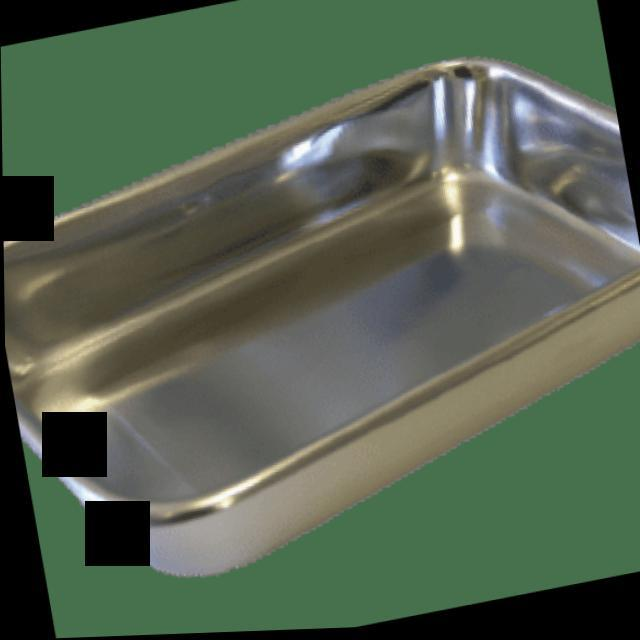Catheter Tray: (1, 32, 640, 610)
